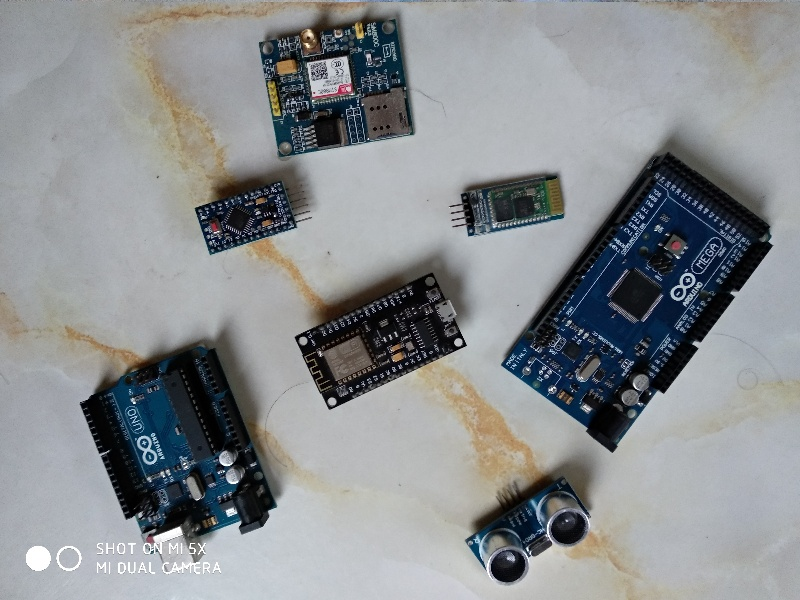Arduino Mega 2560: (494, 149, 781, 454)
Arduino Pro Mini: (194, 179, 299, 258)
Arduino UNO: (74, 339, 287, 571)
HC-05: (456, 165, 570, 238)
NodeMCU: (289, 263, 475, 416)
SIM800: (254, 12, 420, 166)
Sonar Sensor: (458, 474, 598, 586)
